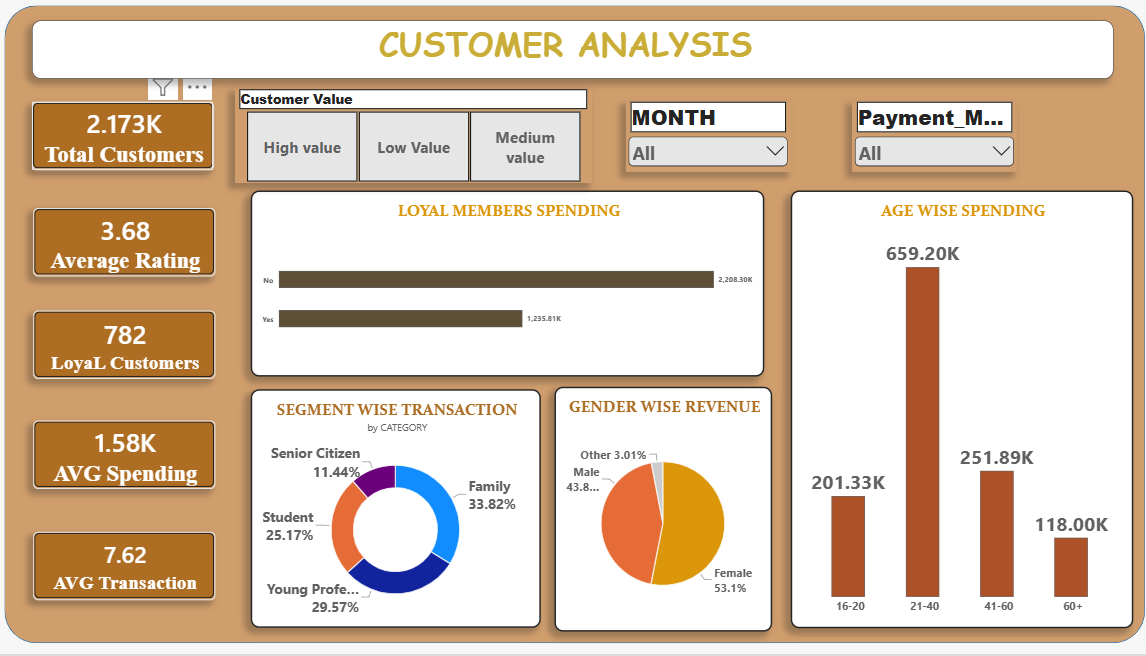

This screenshot's page, from the dashboard's own definition file:
{"tool":"powerbi","page":{"name":"CUSTOMER ANALYSIS","canvas":[1920,1080],"ordinal":3},"visuals":[{"type":"shape","box":[20,13.3,1878,1050],"z":0},{"type":"cardVisual","fields":{"Data":["_Measures.Total Customers"]},"box":[65,170,300,112.8],"z":1000},{"type":"textbox","box":[66,36.2,1780.9,95.7],"z":2000},{"type":"cardVisual","fields":{"Data":["_Measures.Average Customer Rating"]},"box":[67.9,345.8,300,112.8],"z":3000},{"type":"cardVisual","fields":{"Data":["_Measures.Loyalty Customers"]},"box":[67.9,514.6,300,112.8],"z":4000},{"type":"cardVisual","fields":{"Data":["_Measures.Sales Per Customer"]},"box":[67.9,695.7,300,112.8],"z":5000},{"type":"cardVisual","fields":{"Data":["_Measures.Transactions Per Customer"]},"box":[67.9,878.9,300,112.8],"z":6000},{"type":"donutChart","title":"SEGMENT WISE TRANSACTION","fields":{"Category":["bakery_synthetic_dataset.Customer_Segment"],"Y":["CountNonNull(bakery_synthetic_dataset.Customer_ID)"]},"box":[426.1,644.3,477.5,393.1],"z":7000},{"type":"columnChart","title":"AGE WISE SPENDING","fields":{"Category":["bakery_synthetic_dataset.age range"],"Y":["_Measures.Total Sales"]},"box":[1315.3,317,564,720.4],"z":8000},{"type":"pieChart","title":"GENDER WISE REVENUE ","fields":{"Category":["bakery_synthetic_dataset.Customer_Gender"],"Y":["_Measures.Total Sales"]},"box":[926.2,640.1,358.1,403.4],"z":9000},{"type":"barChart","title":"LOYAL MEMBERS SPENDING","fields":{"Category":["bakery_synthetic_dataset.Loyalty_Member"],"Y":["_Measures.Total Sales"]},"box":[426.1,317,846,306.7],"z":10000},{"type":"slicer","fields":{"Values":["bakery_synthetic_dataset.MONTH NAME"]},"box":[1043.6,170.8,271.7,115.3],"z":11000},{"type":"slicer","fields":{"Values":["bakery_synthetic_dataset.Customer Value"]},"box":[399.3,150.3,588.7,154.4],"z":12000},{"type":"slicer","fields":{"Values":["bakery_synthetic_dataset.Payment_Method"]},"box":[1416.1,170.8,271.7,115.3],"z":13000}]}

Visuals, with their boxes in screenshot pixels (x1, y1, x2, y2), scaled from the page's 1920x1080 canvas onto the 1146x656 screenshot:
shape: <region>12, 8, 1133, 646</region>
cardVisual - _Measures.Total Customers: <region>39, 103, 218, 172</region>
textbox: <region>39, 22, 1102, 80</region>
cardVisual - _Measures.Average Customer Rating: <region>41, 210, 220, 279</region>
cardVisual - _Measures.Loyalty Customers: <region>41, 313, 220, 381</region>
cardVisual - _Measures.Sales Per Customer: <region>41, 423, 220, 491</region>
cardVisual - _Measures.Transactions Per Customer: <region>41, 534, 220, 602</region>
"SEGMENT WISE TRANSACTION" donutChart: <region>254, 391, 539, 630</region>
"AGE WISE SPENDING" columnChart: <region>785, 193, 1122, 630</region>
"GENDER WISE REVENUE " pieChart: <region>553, 389, 767, 634</region>
"LOYAL MEMBERS SPENDING" barChart: <region>254, 193, 759, 379</region>
slicer - bakery_synthetic_dataset.MONTH NAME: <region>623, 104, 785, 174</region>
slicer - bakery_synthetic_dataset.Customer Value: <region>238, 91, 590, 185</region>
slicer - bakery_synthetic_dataset.Payment_Method: <region>845, 104, 1007, 174</region>
